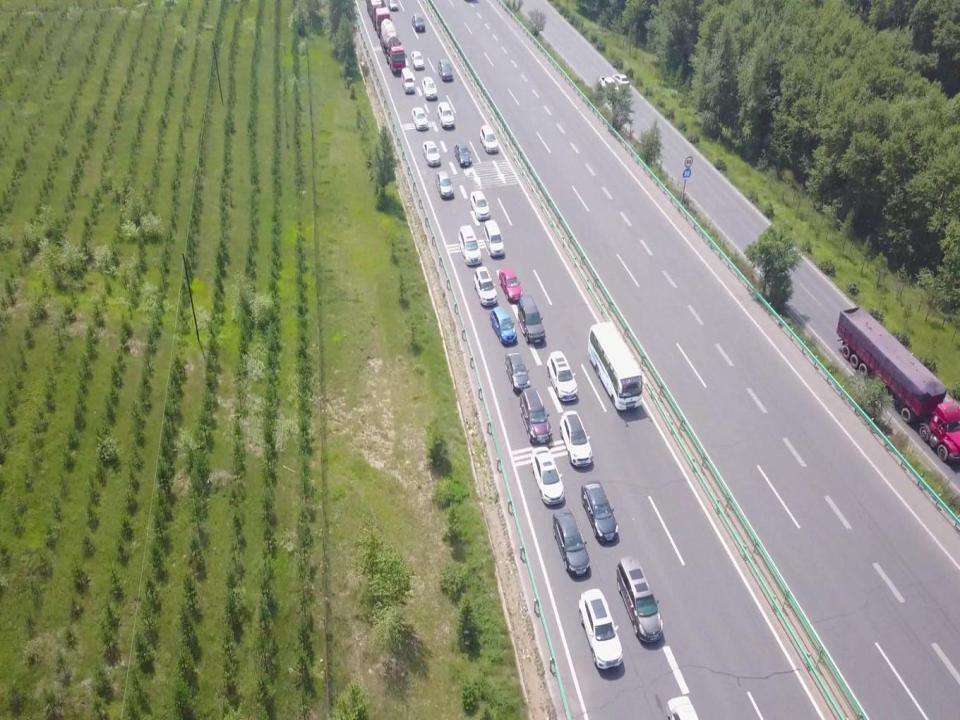bus: (587, 320, 648, 410)
car: (616, 554, 666, 646), (578, 588, 620, 668), (553, 506, 590, 580), (579, 480, 620, 543), (530, 445, 566, 509), (557, 410, 593, 469), (519, 383, 553, 441), (547, 351, 581, 402), (489, 304, 518, 347), (481, 219, 509, 263), (456, 223, 483, 266), (665, 694, 705, 720), (498, 261, 523, 301), (506, 349, 530, 389), (474, 264, 498, 304), (470, 190, 490, 224), (478, 125, 497, 155), (435, 169, 453, 199), (435, 101, 454, 129), (454, 142, 473, 169), (595, 73, 618, 95), (422, 138, 440, 166), (422, 75, 438, 103), (412, 106, 428, 133), (410, 48, 426, 72), (410, 11, 425, 36), (616, 74, 631, 94), (438, 59, 451, 82)
truck: (835, 294, 959, 456), (375, 15, 409, 72), (366, 0, 392, 28)
van: (518, 292, 546, 344), (401, 69, 417, 91)
